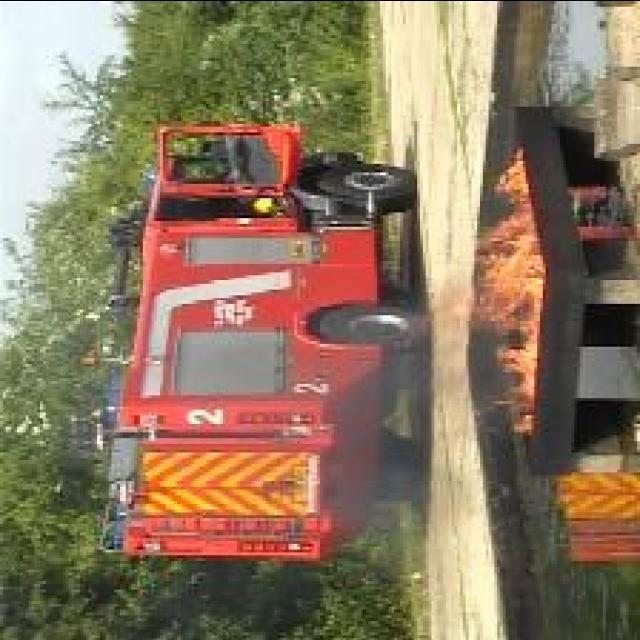Fire: (422, 146, 548, 432)
